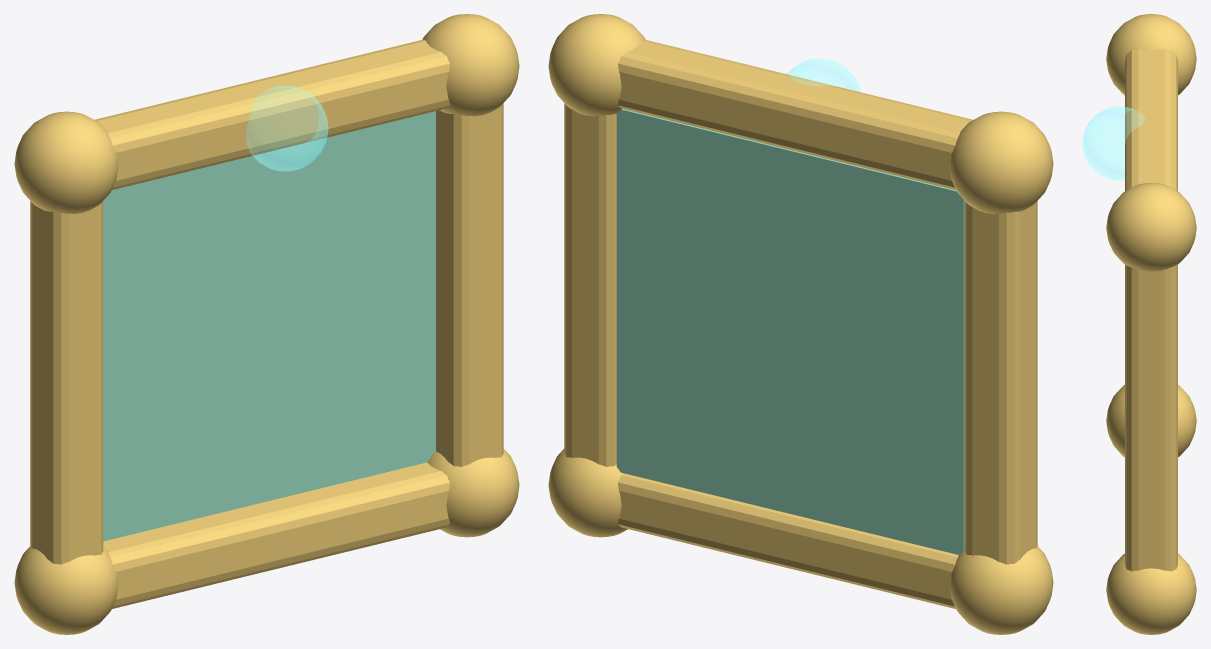
The model's file is cat-frame.glb.
3 renders of one model, left to right at view 1: azimuth 30°, elevation 25°; view 2: azimuth 150°, elevation 25°; view 3: azimuth 270°, elevation 25°, orthographic. The views are drawn at different scales.
Parts seen in each view (by area): view 1: Cube.004, Cube.003, Cube, Cube.002, Cube.001, Sphere.001, Sphere, Sphere.003, Sphere.004, Sphere.002; view 2: Cube.004, Cube.003, Cube, Cube.001, Cube.002, Sphere.001, Sphere, Sphere.003, Sphere.002, Sphere.004; view 3: Cube.002, Cube, Sphere.003, Sphere.002, Sphere.001, Sphere.004, Sphere.
Boxes of the visible parts, x1,y1,x2,y2 form: Cube.004: (103,111,435,541); Cube.003: (30,201,103,564); Cube: (94,39,449,189); Cube.002: (436,103,503,466); Cube.001: (103,462,449,608); Sphere.001: (14,111,118,213); Sphere: (14,546,118,634); Sphere.003: (422,14,519,116); Sphere.004: (246,86,328,171); Sphere.002: (427,448,519,537); Cube.004: (616,109,964,554); Cube.003: (964,201,1037,564); Cube: (618,39,973,189); Cube.001: (618,473,958,608); Cube.002: (564,103,616,466); Sphere.001: (949,111,1053,213); Sphere: (949,546,1053,634); Sphere.003: (548,14,645,116); Sphere.002: (548,448,627,537); Sphere.004: (787,59,860,91); Cube.002: (1125,264,1177,571); Cube: (1125,49,1177,191); Sphere.003: (1106,182,1196,271); Sphere.002: (1106,553,1196,634); Sphere.001: (1106,14,1196,95); Sphere.004: (1082,106,1144,180); Sphere: (1106,385,1196,457).
Size of the model in its own units: 1.47 by 1.47 by 0.3424.
